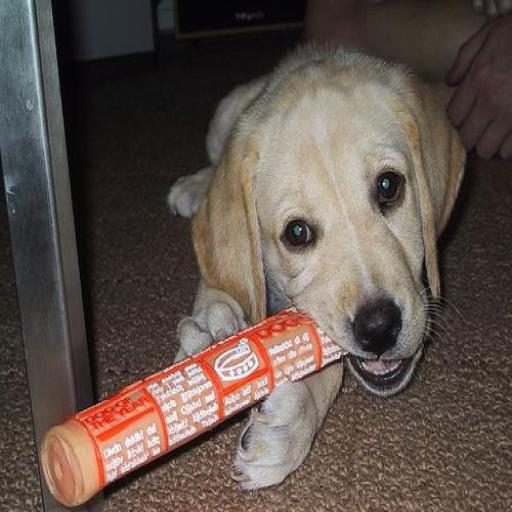dog_face: (208, 60, 462, 392)
